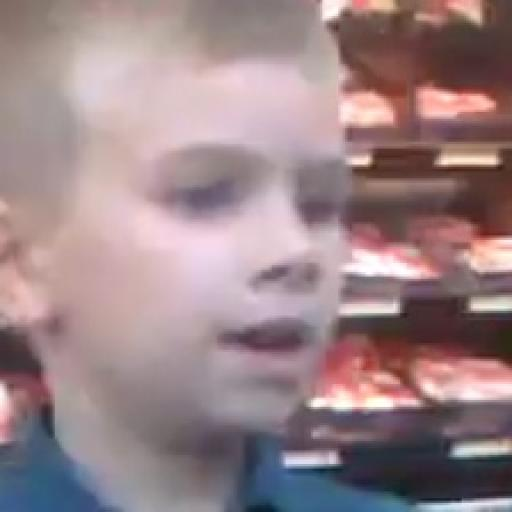Autism: (13, 5, 349, 454)
